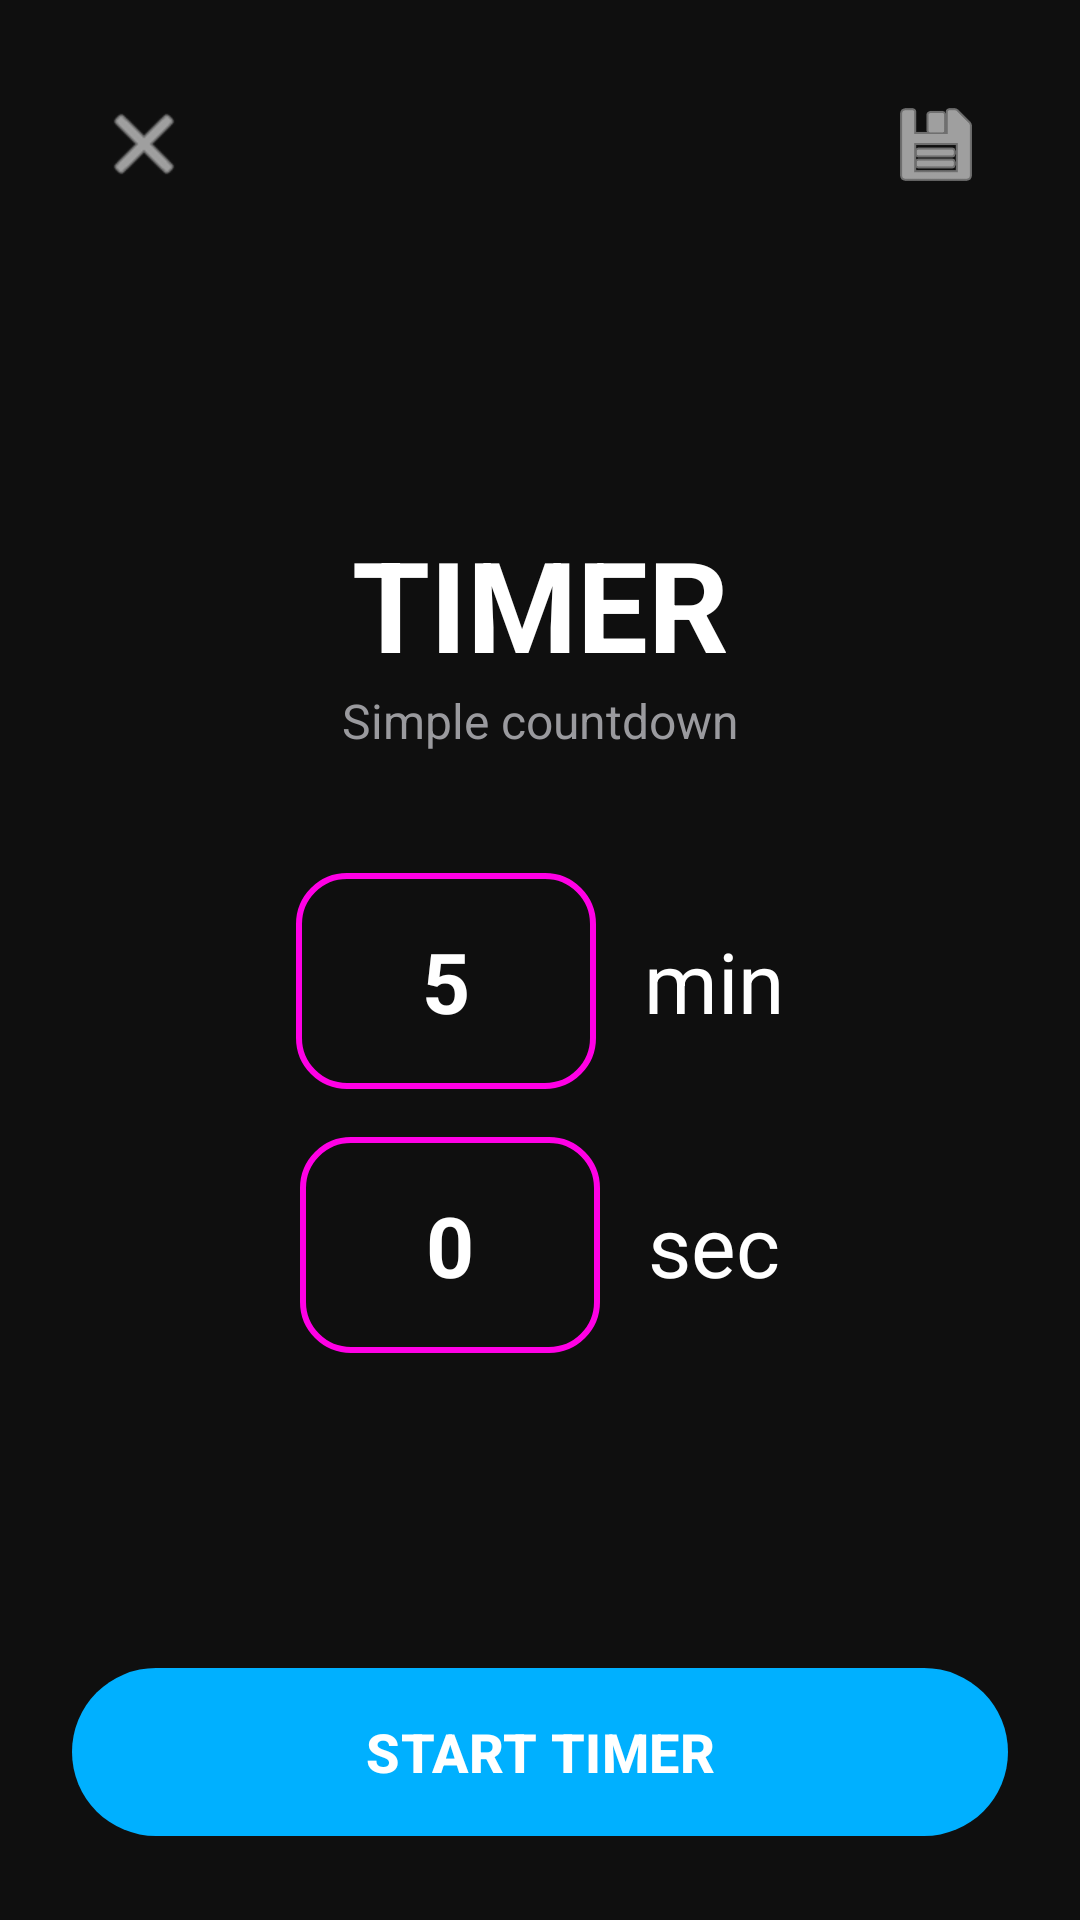

Named icons in this screenshot (1080 × 1920) and their centers, [x,y]:
Save as preset: [936,144]
